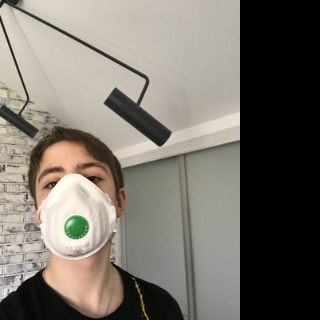with_mask: (36, 152, 117, 259)
